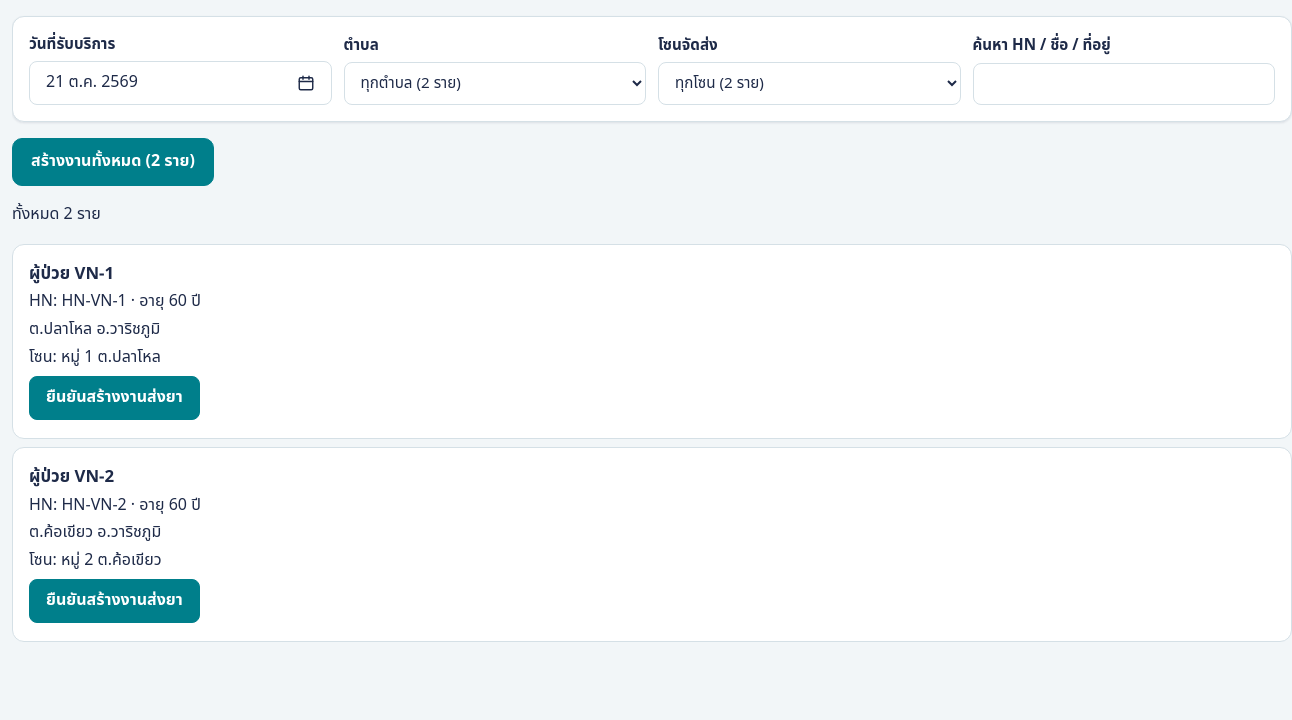
Test case: picks a subdistrict first, then only offers that subdistrict's zones
The width and height of the screenshot is (1292, 720).
Expected: the heading "ผู้ป่วย VN-2" is shown, [29,464,114,490]
Select "ต.ปลาโหล อ.วาริชภูมิ (1 ราย)" in the dropdown labelled "ตำบล" at (495, 83), box [344,62,646,105]
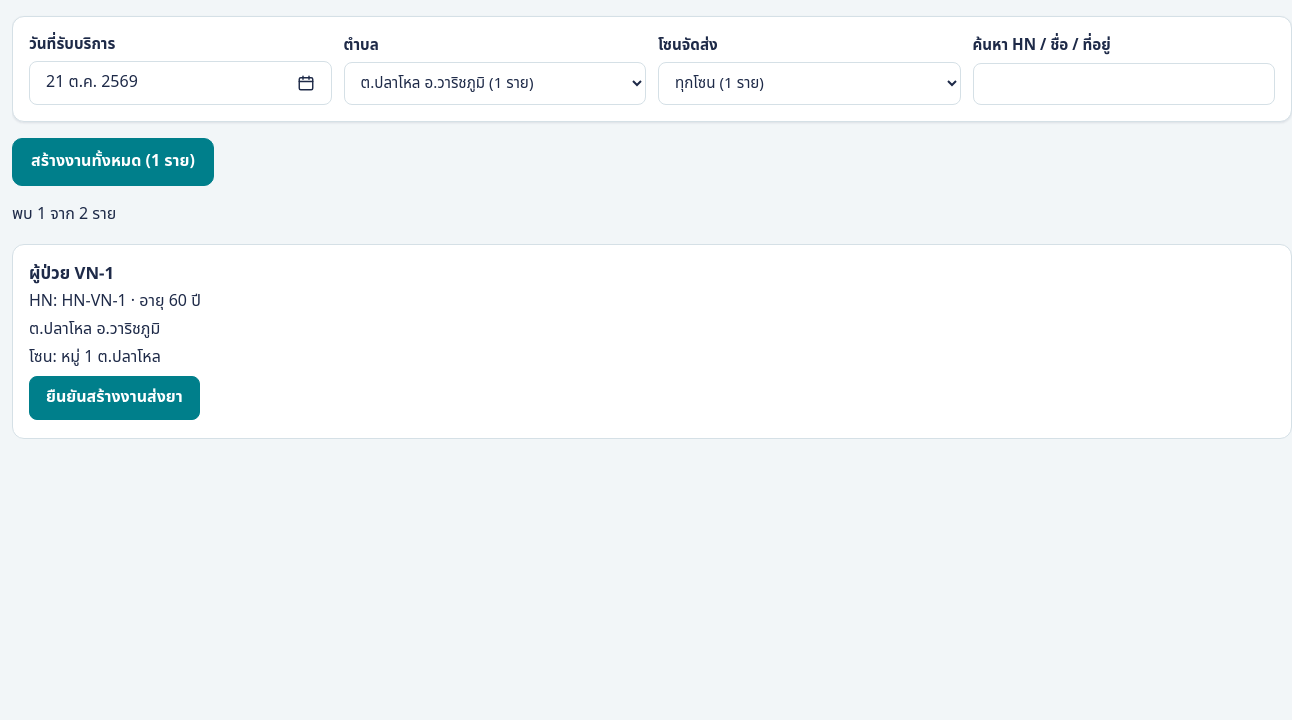
Now the heading "ผู้ป่วย VN-2" is gone
